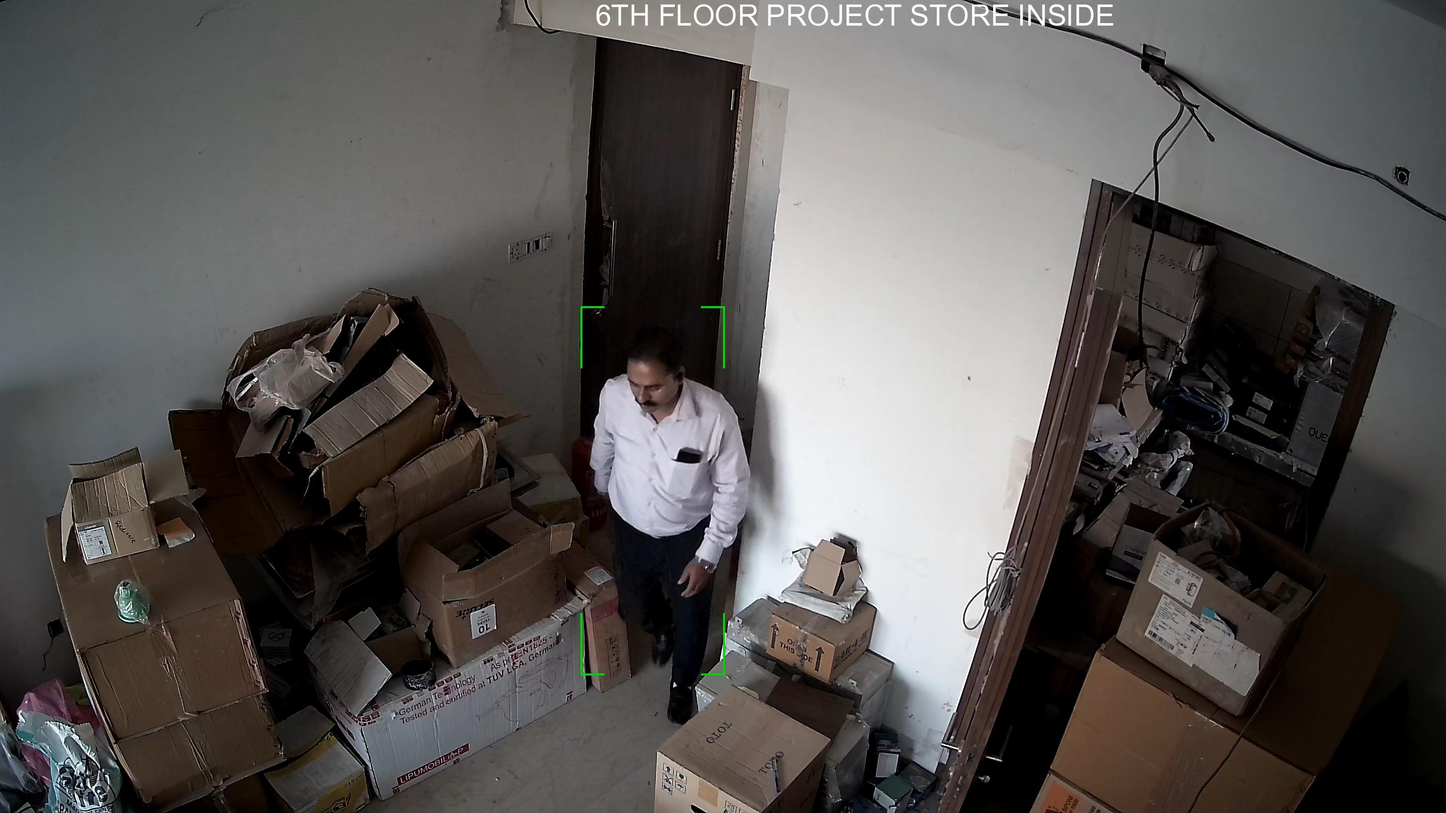Door-Close: (559, 31, 742, 482)
